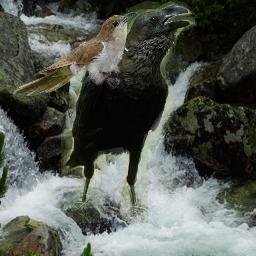Crow: (61, 0, 197, 223)
Cuckoo: (12, 11, 138, 96)
